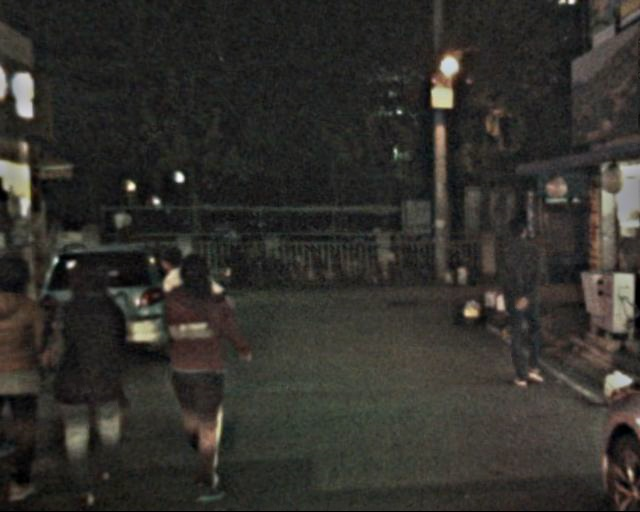person: (46, 240, 142, 492), (144, 245, 238, 495), (488, 210, 553, 397), (1, 247, 45, 508), (162, 237, 222, 407)
